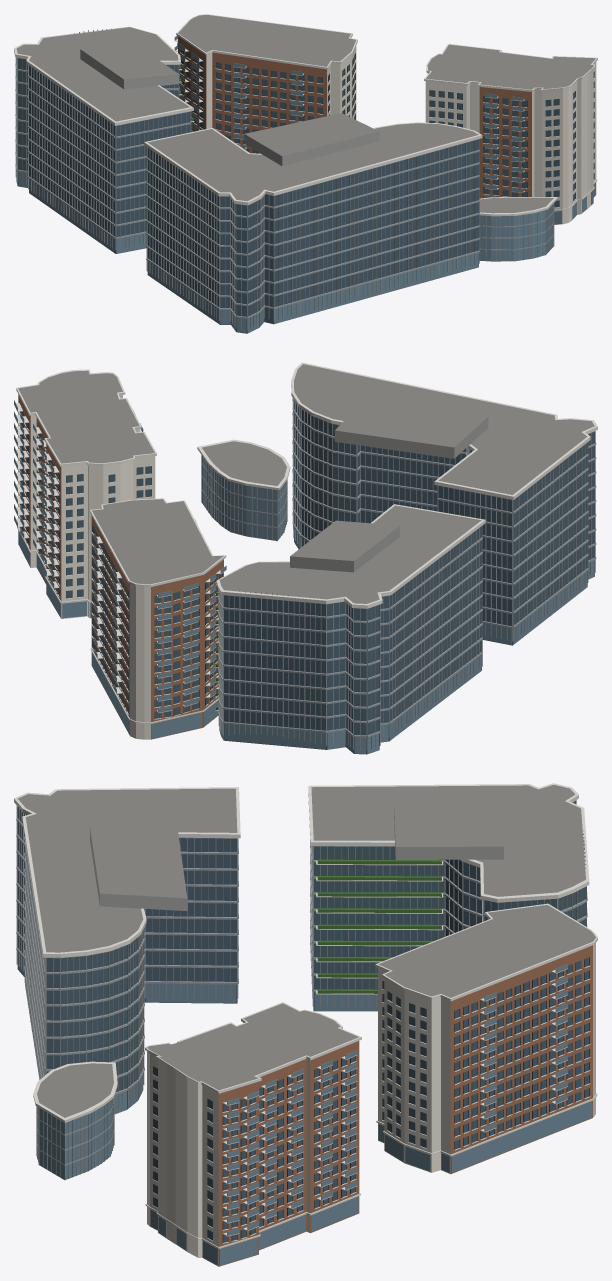
File: sheldon_square.glb
3 renders of one model, top to bottom at view 1: azimuth 30°, elevation 25°; view 2: azimuth 150°, elevation 25°; view 3: azimuth 270°, elevation 25°, orthographic. The views are drawn at different scales.
Bounding box in the file's own units: 147 × 52.24 × 127.
